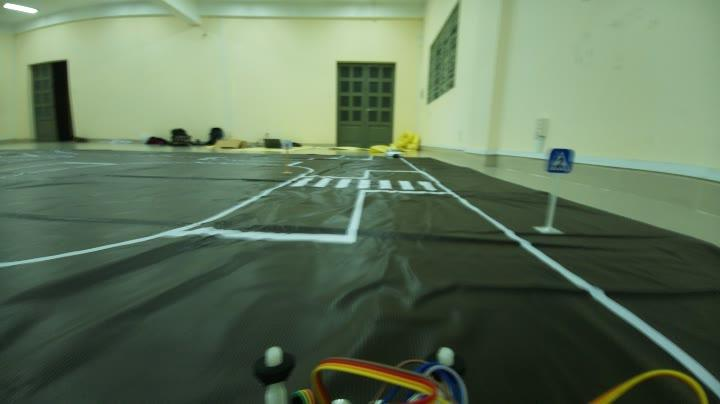crosswalk: (537, 140, 584, 179)
